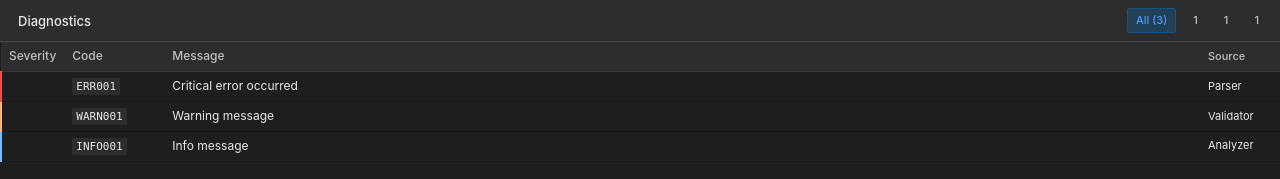
it: DiagnosticsPanel filtering › should filter to show only warnings
The width and height of the screenshot is (1280, 179).
Click the 2nd button "1". click: (1224, 21)
box: [1211,8,1237,33]
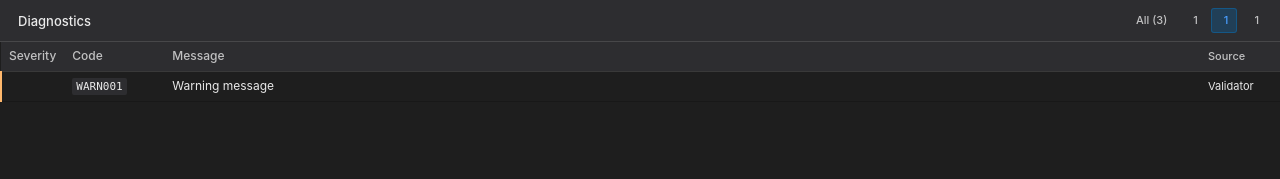
Expected: the text "Warning message" is shown, [164,72,1200,102]
Expected: the text "Critical error occurred" is gone
